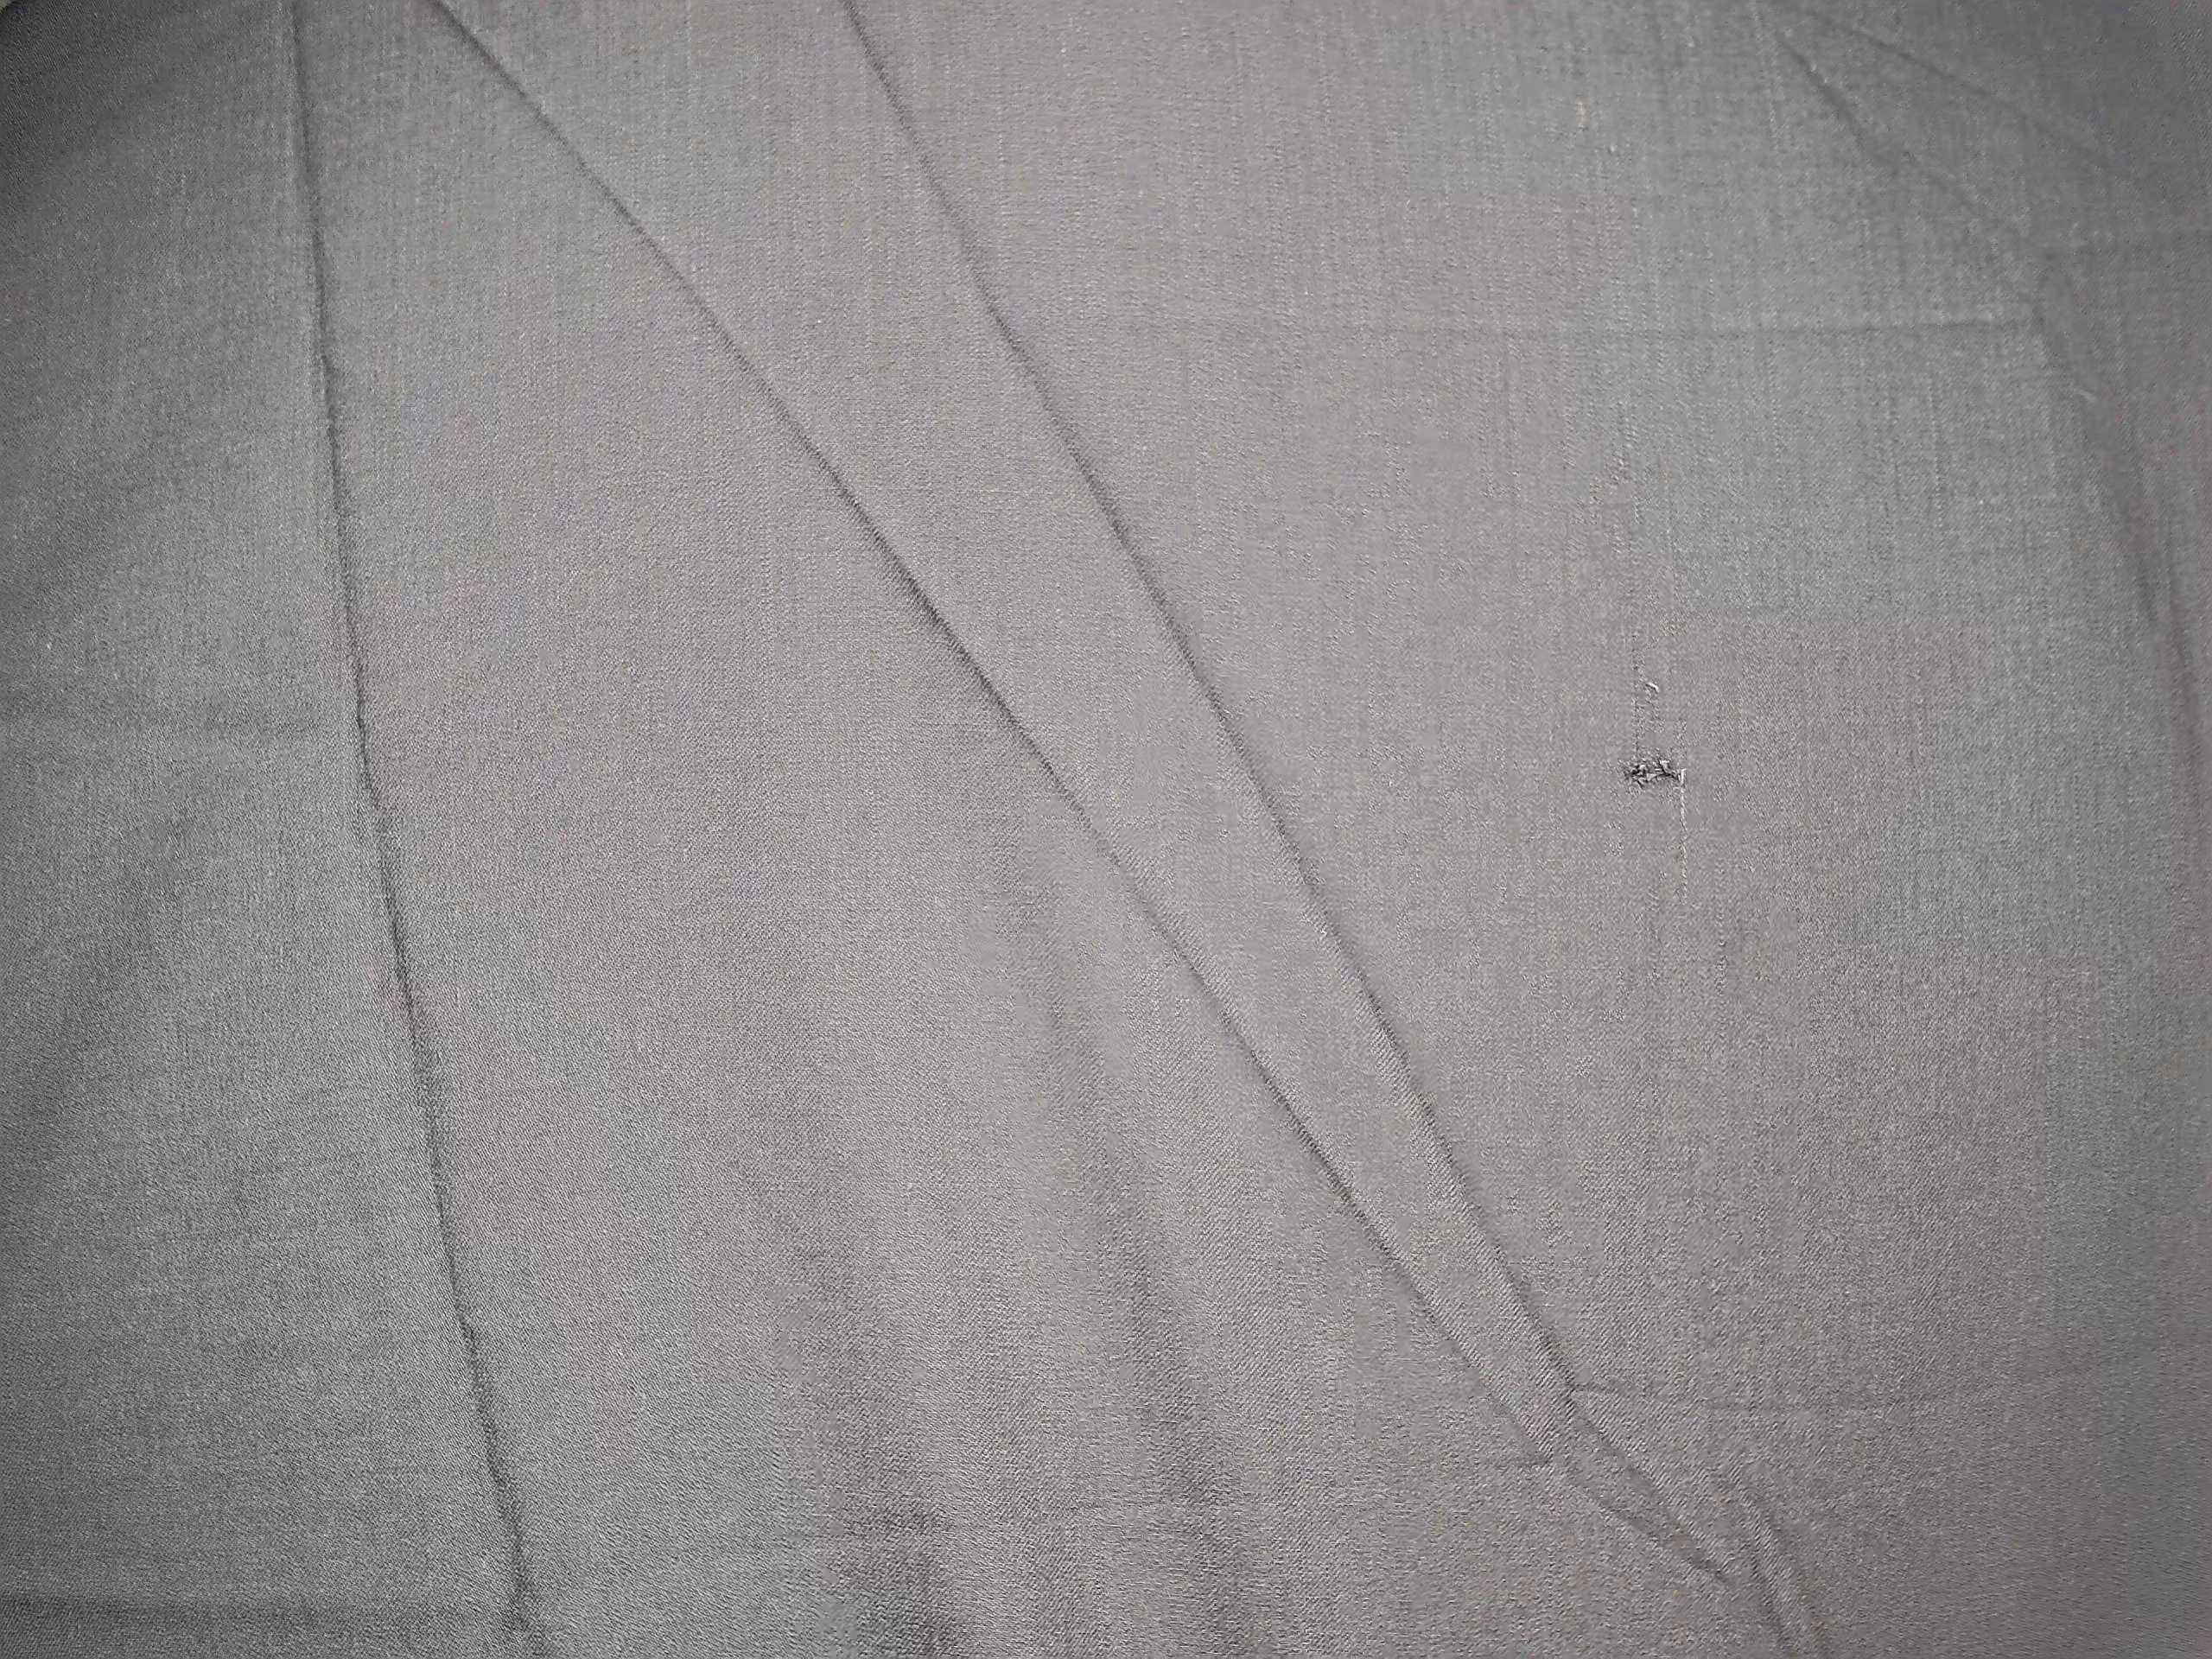jumps: (1588, 643, 1724, 904)
